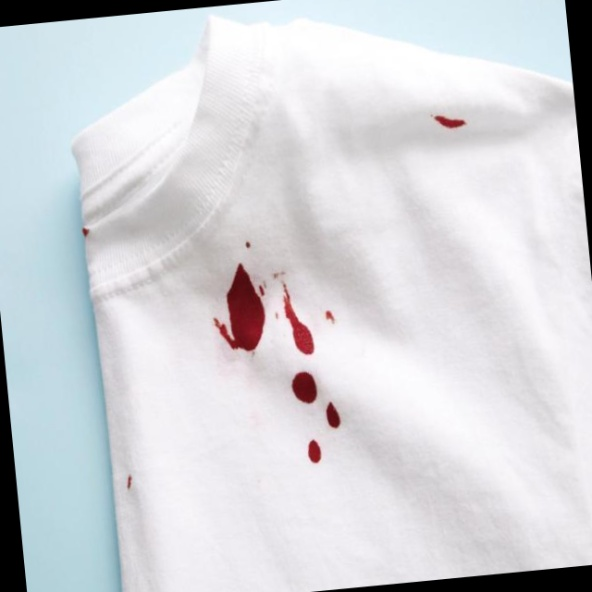blood: (286, 369, 347, 466), (218, 259, 273, 356), (280, 288, 316, 357)
